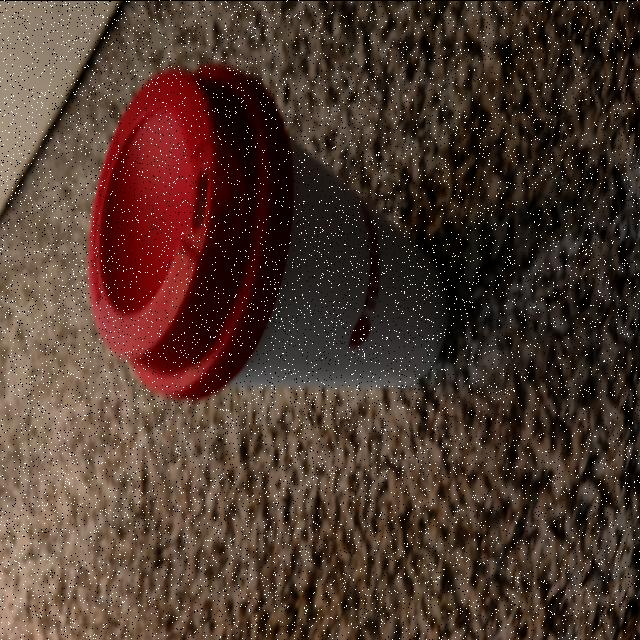mug: (88, 73, 440, 398)
